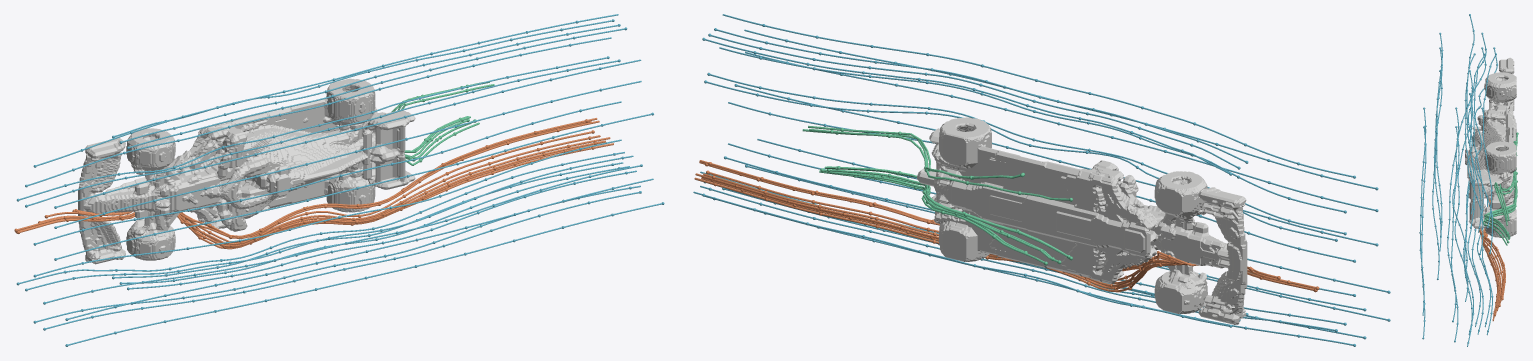
Rendered from W11_8IN_CFD_AIRFLOW_POINTS_FRONTWING_TO_DIFFUSER.glb.
The picture shows the model from 3 angles, left to right: view 1: azimuth 30°, elevation 25°; view 2: azimuth 150°, elevation 25°; view 3: azimuth 270°, elevation 25°; orthographic projection. The views are drawn at different scales.
Visible parts, largest first — view 1: W11_8IN_PRINTABLE_CAR, CFD_CONTINUOUS_WHOLE_CAR, CFD_CONTINUOUS_FRONT_WING_TO_DIFFUSER, CFD_AIRFLOW_POINTS_WHOLE_CAR, CFD_CONTINUOUS_UNDERFLOOR, CFD_AIRFLOW_POINTS_FRONT_WING_TO_DIFFUSER; view 2: W11_8IN_PRINTABLE_CAR, CFD_CONTINUOUS_WHOLE_CAR, CFD_CONTINUOUS_FRONT_WING_TO_DIFFUSER, CFD_CONTINUOUS_UNDERFLOOR, CFD_AIRFLOW_POINTS_WHOLE_CAR, CFD_AIRFLOW_POINTS_FRONT_WING_TO_DIFFUSER; view 3: W11_8IN_PRINTABLE_CAR, CFD_CONTINUOUS_WHOLE_CAR, CFD_AIRFLOW_POINTS_WHOLE_CAR, CFD_CONTINUOUS_UNDERFLOOR, CFD_CONTINUOUS_FRONT_WING_TO_DIFFUSER, CFD_AIRFLOW_POINTS_FRONT_WING_TO_DIFFUSER, CFD_AIRFLOW_POINTS_UNDERFLOOR.
Part boxes in pixels (box(x1,y1,x2,y2)): W11_8IN_PRINTABLE_CAR: box(78, 78, 415, 264); CFD_CONTINUOUS_WHOLE_CAR: box(19, 14, 661, 345); CFD_CONTINUOUS_FRONT_WING_TO_DIFFUSER: box(18, 118, 613, 249); CFD_AIRFLOW_POINTS_WHOLE_CAR: box(16, 19, 664, 346); CFD_CONTINUOUS_UNDERFLOOR: box(391, 82, 494, 165); CFD_AIRFLOW_POINTS_FRONT_WING_TO_DIFFUSER: box(14, 119, 596, 248); W11_8IN_PRINTABLE_CAR: box(917, 117, 1247, 324); CFD_CONTINUOUS_WHOLE_CAR: box(693, 14, 1387, 345); CFD_CONTINUOUS_FRONT_WING_TO_DIFFUSER: box(694, 160, 1315, 292); CFD_CONTINUOUS_UNDERFLOOR: box(802, 125, 1069, 263); CFD_AIRFLOW_POINTS_WHOLE_CAR: box(702, 24, 1390, 346); CFD_AIRFLOW_POINTS_FRONT_WING_TO_DIFFUSER: box(705, 162, 1319, 292); W11_8IN_PRINTABLE_CAR: box(1465, 57, 1516, 237); CFD_CONTINUOUS_WHOLE_CAR: box(1420, 15, 1497, 346); CFD_AIRFLOW_POINTS_WHOLE_CAR: box(1419, 14, 1497, 343); CFD_CONTINUOUS_UNDERFLOOR: box(1483, 134, 1517, 245); CFD_CONTINUOUS_FRONT_WING_TO_DIFFUSER: box(1479, 199, 1505, 321); CFD_AIRFLOW_POINTS_FRONT_WING_TO_DIFFUSER: box(1481, 200, 1505, 313); CFD_AIRFLOW_POINTS_UNDERFLOOR: box(1484, 132, 1518, 243).
Bounding box in the file's own units: 395 × 120 × 78.13.
